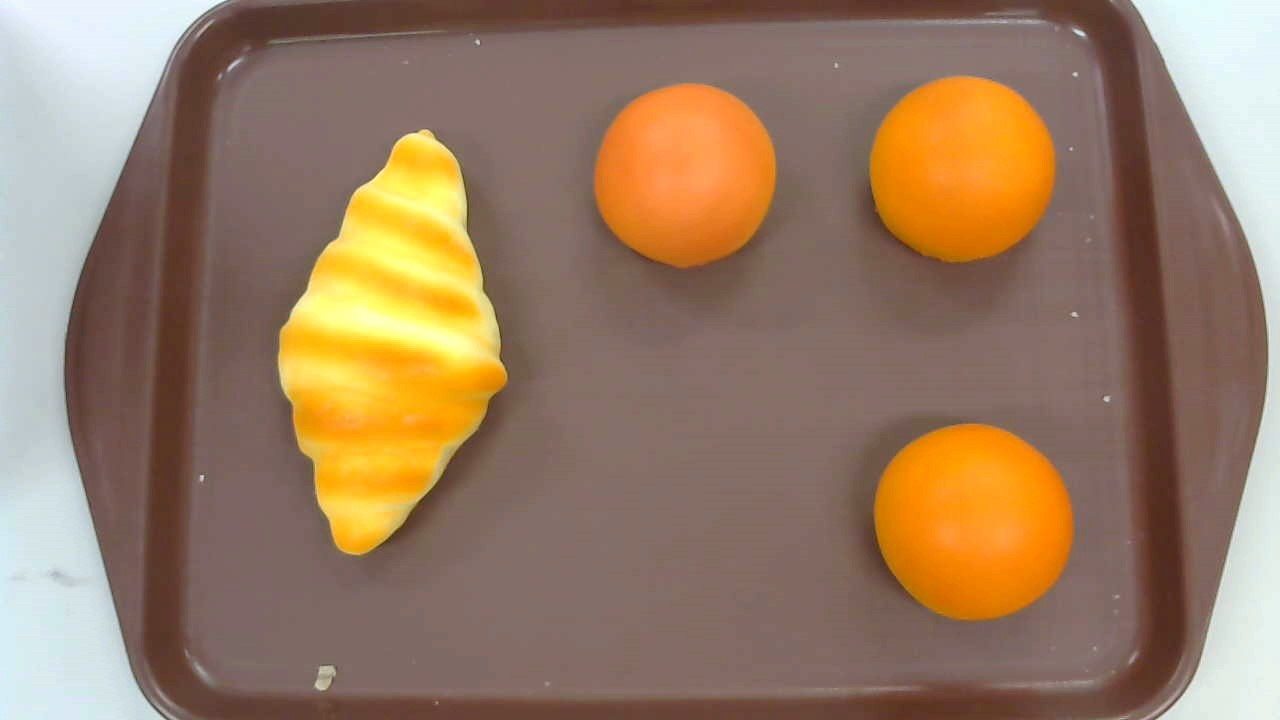bun: (873, 422, 1071, 620), (868, 75, 1056, 261), (593, 82, 775, 269)
croissant: (278, 128, 509, 556)
